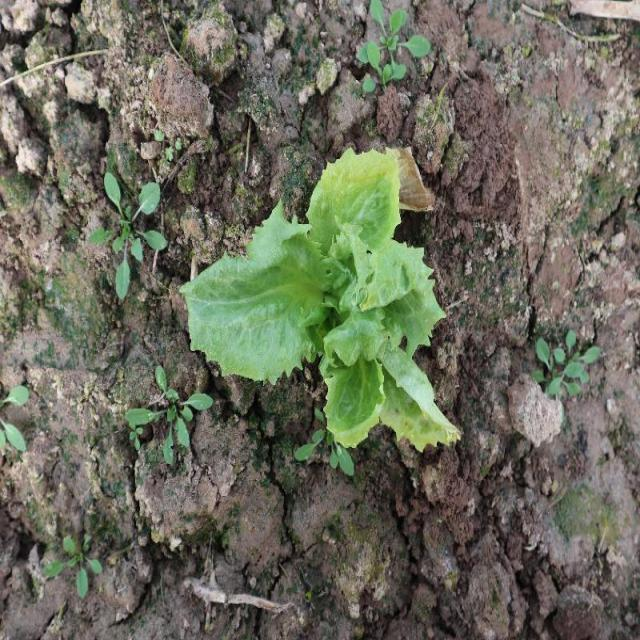crop: (181, 144, 465, 453)
